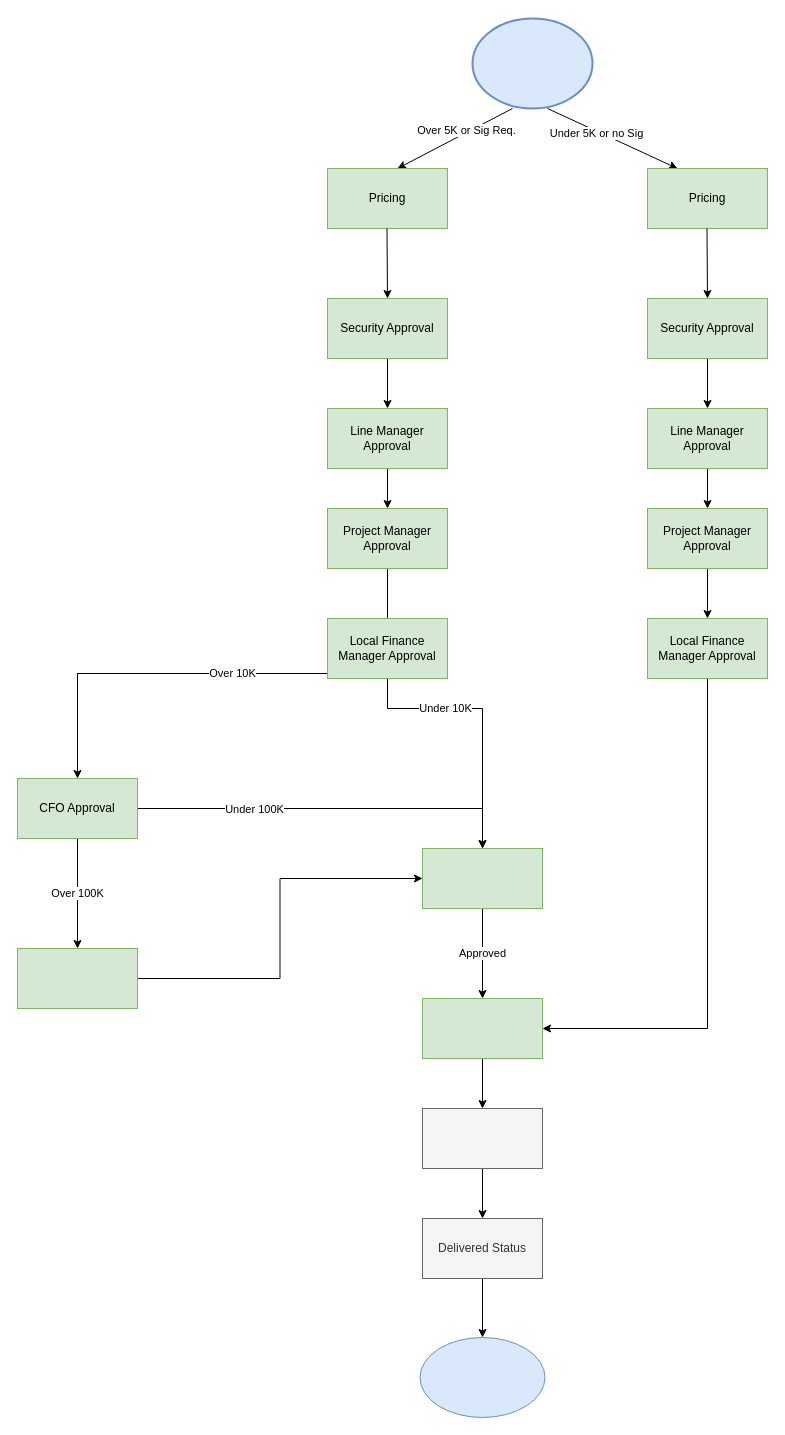
The diagram is 785 pixels wide and 1435 high, and some of its shapes have lost their labels. Each missing label, with the centre of its shape:
"A user submits a Purchase Request" goes at pixel 532 63.
"CEO Approval" goes at pixel 77 978.
"Ordering Status" goes at pixel 482 1138.
"Send to Requester to Close" goes at pixel 482 1377.
"Sent to Legal Workflow" goes at pixel 482 878.
"Sent to Procurement Manager" goes at pixel 482 1028.
